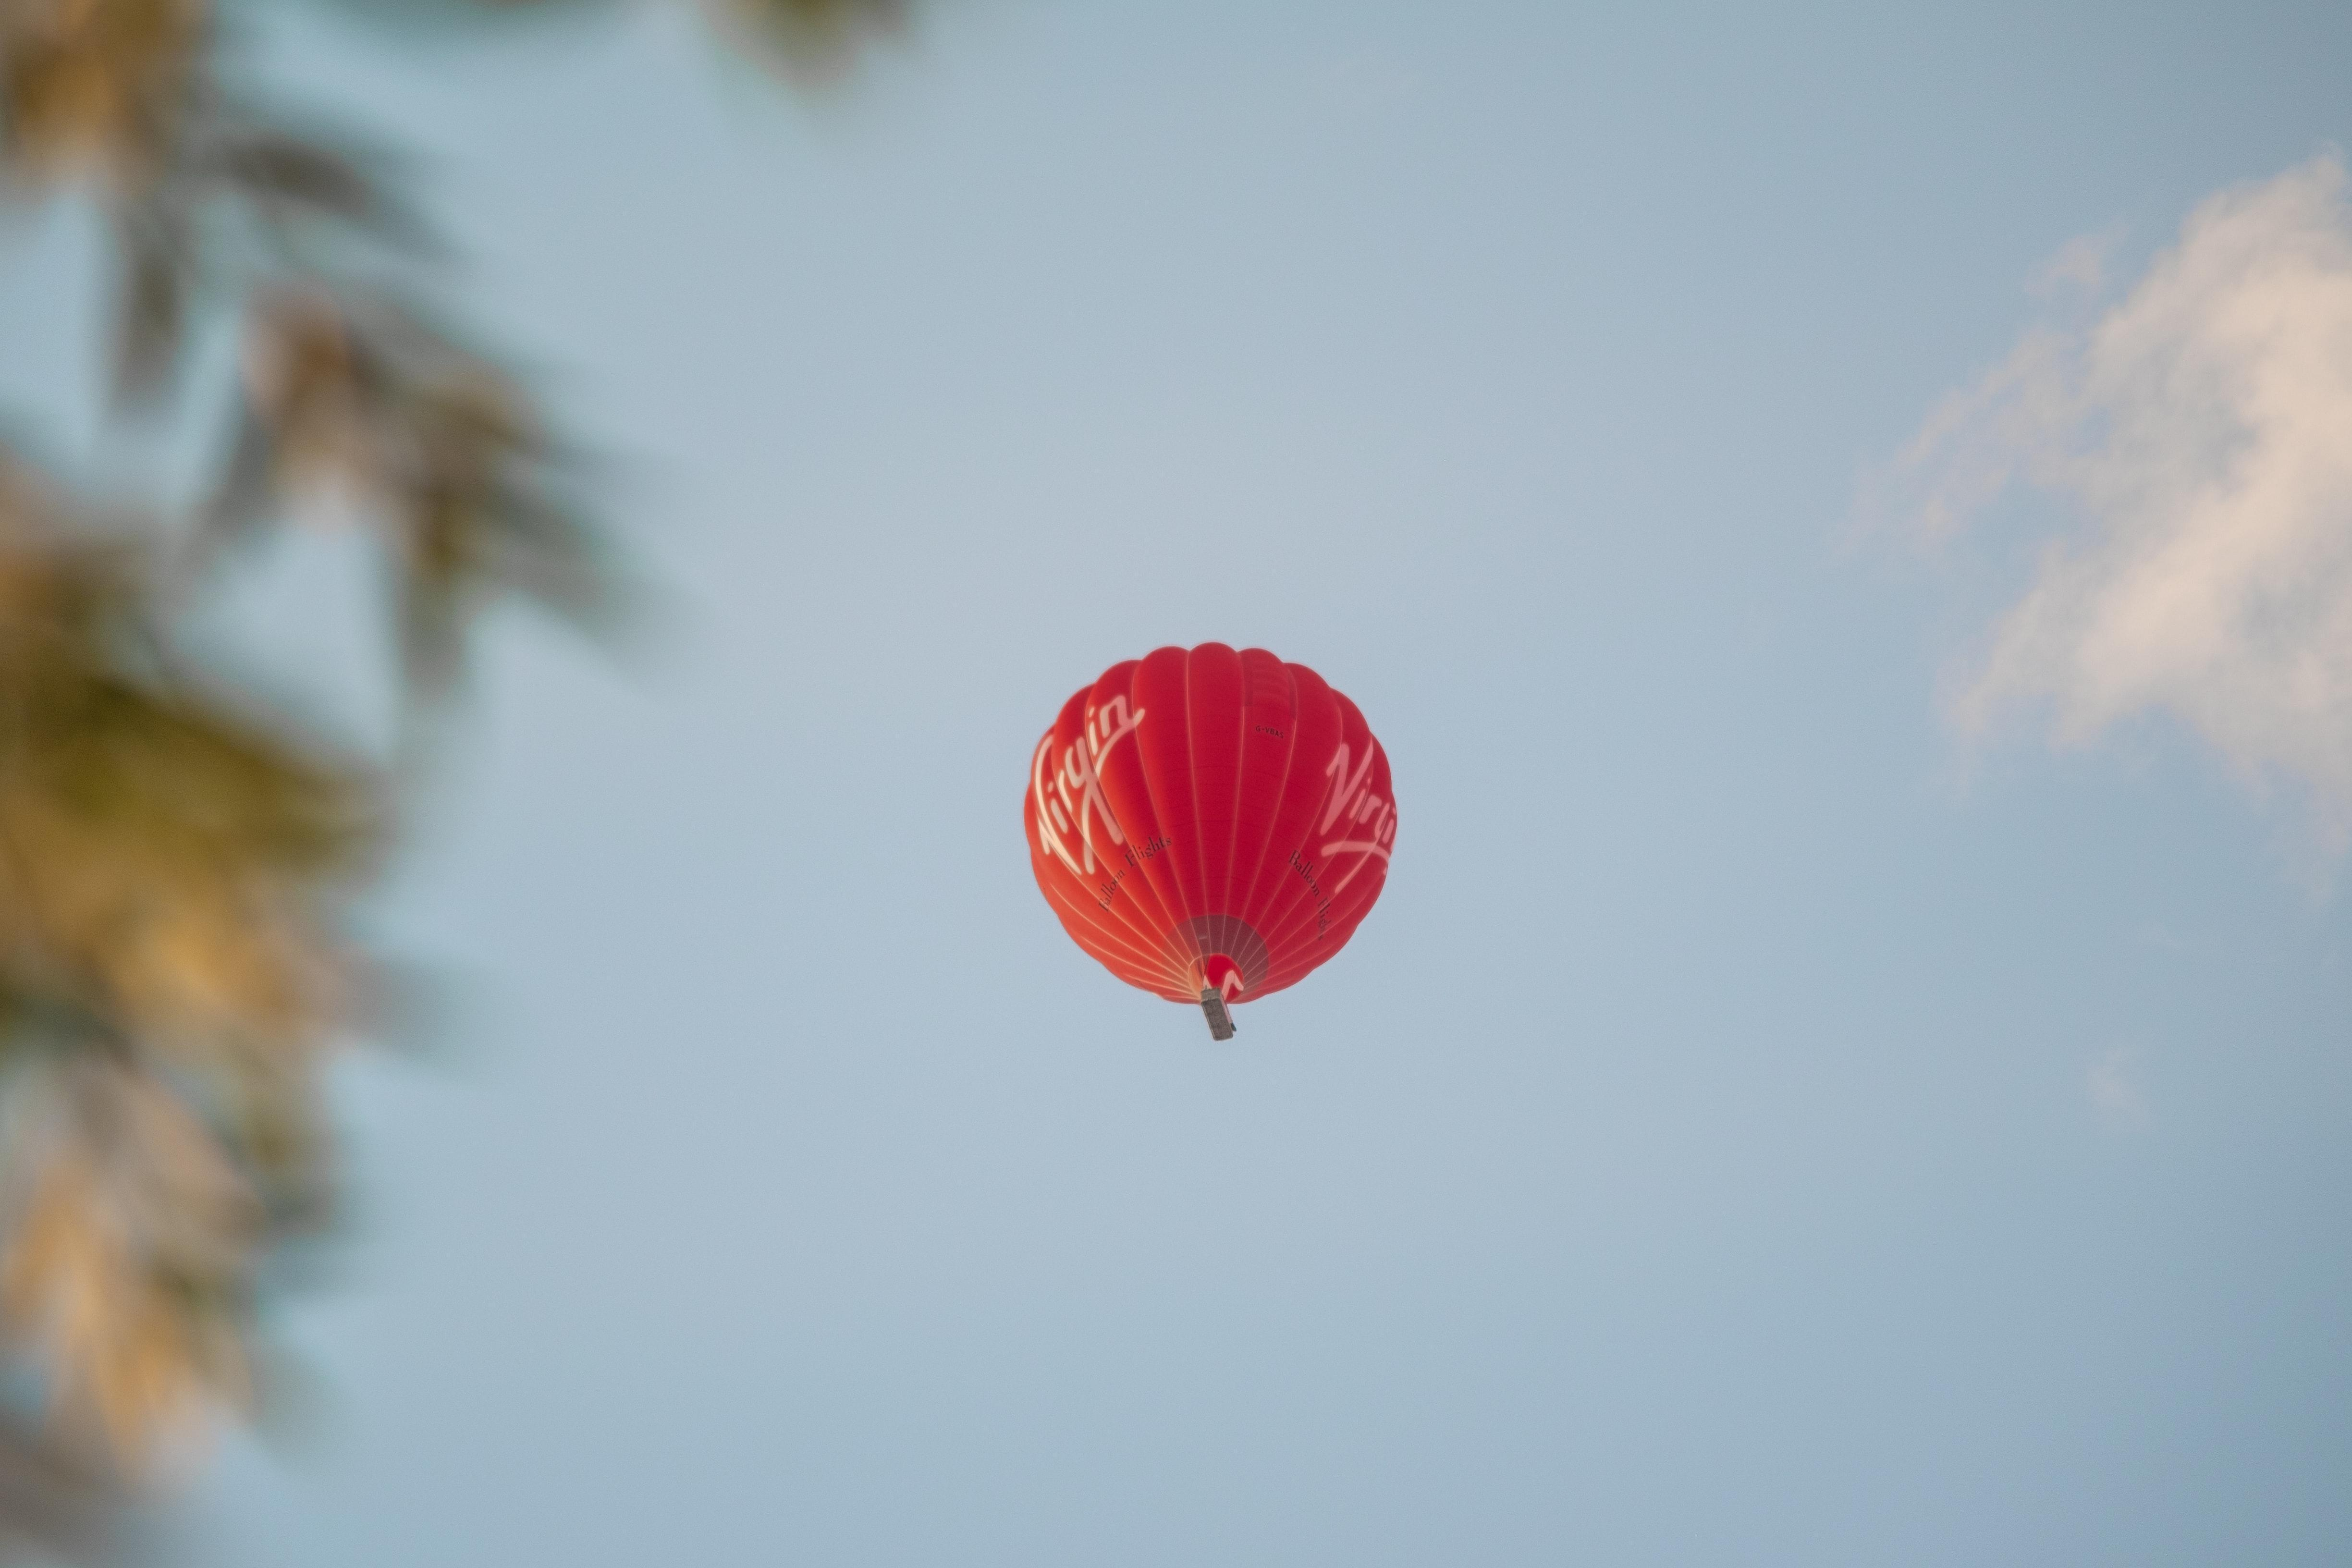hot air ballon: (1025, 640, 1398, 1041)
